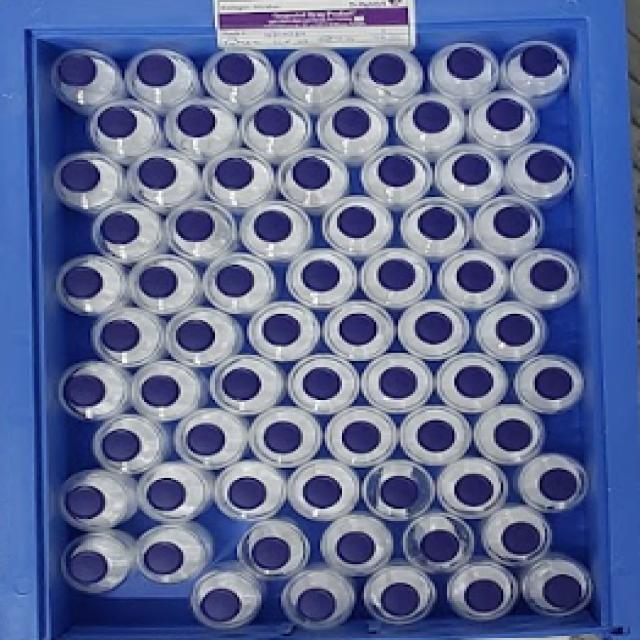vial: (61, 265, 108, 303), (61, 373, 110, 408), (134, 53, 183, 87), (221, 364, 264, 402), (263, 419, 307, 456), (65, 549, 110, 585), (525, 149, 568, 186), (140, 541, 188, 574), (499, 523, 544, 558), (454, 472, 495, 509), (301, 366, 344, 401), (301, 475, 344, 510), (380, 474, 419, 512), (100, 425, 140, 462), (185, 420, 225, 457), (60, 160, 101, 196), (137, 156, 178, 192), (413, 310, 454, 346), (484, 96, 526, 131), (136, 265, 178, 300), (95, 106, 138, 140), (175, 320, 218, 354), (379, 584, 423, 617), (540, 466, 580, 502), (215, 264, 256, 299), (534, 368, 575, 403), (341, 420, 382, 455), (301, 258, 343, 292), (146, 478, 188, 512), (65, 487, 107, 521), (542, 574, 584, 608), (334, 531, 377, 564), (262, 312, 302, 347), (456, 365, 496, 400), (292, 156, 330, 192), (530, 258, 569, 293), (339, 311, 378, 346), (452, 153, 492, 187), (378, 257, 418, 291), (57, 53, 98, 86), (227, 476, 268, 509), (446, 49, 488, 81), (377, 367, 419, 399), (295, 589, 338, 620), (494, 204, 532, 239), (177, 105, 217, 138), (254, 209, 294, 242), (140, 374, 180, 407), (494, 418, 534, 451), (252, 537, 292, 570), (415, 420, 456, 452), (334, 106, 372, 140), (421, 529, 459, 563), (413, 100, 452, 133), (215, 156, 254, 189), (102, 319, 141, 352), (465, 579, 505, 611), (294, 56, 335, 87), (378, 154, 415, 188), (521, 46, 560, 78), (338, 206, 377, 238), (175, 210, 214, 242), (495, 312, 531, 346), (255, 106, 293, 138), (202, 590, 240, 622), (100, 215, 140, 245), (417, 208, 455, 239), (457, 262, 496, 292), (216, 56, 256, 85), (371, 55, 407, 84)
